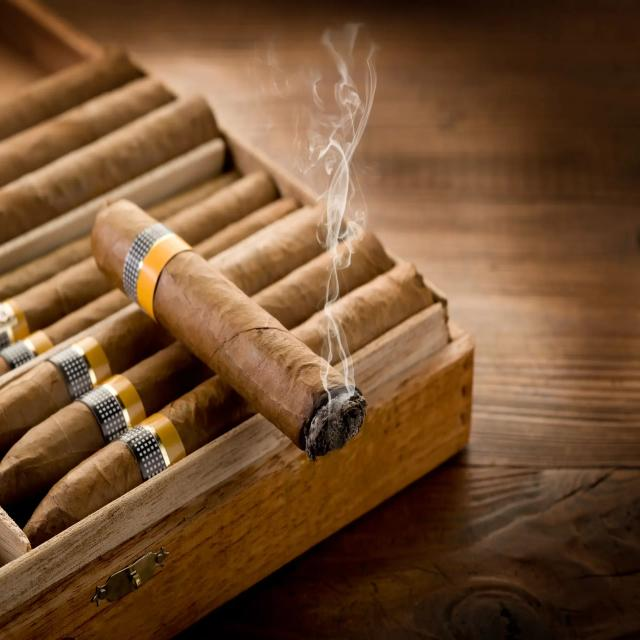Cigarette: (89, 197, 366, 458)
